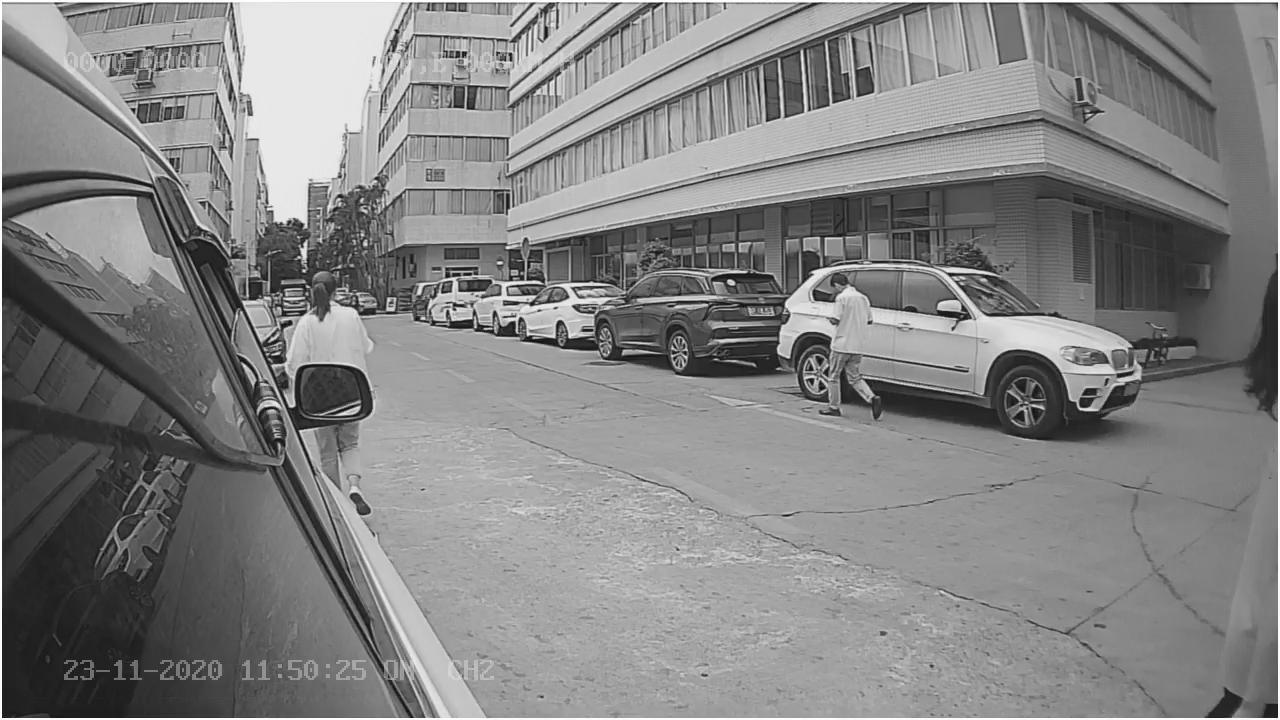person: (806, 270, 886, 424), (286, 263, 379, 365)
